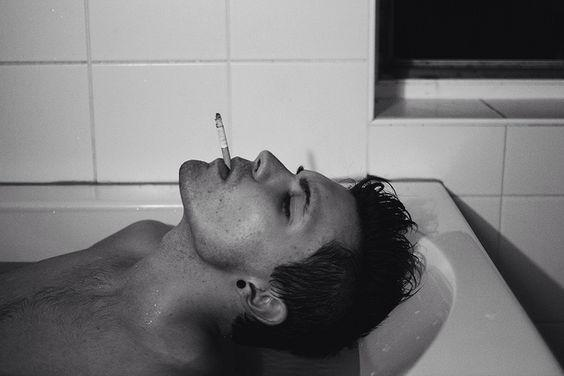cigarette: (214, 113, 231, 169)
